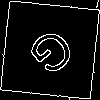G: (25, 25, 85, 86)
